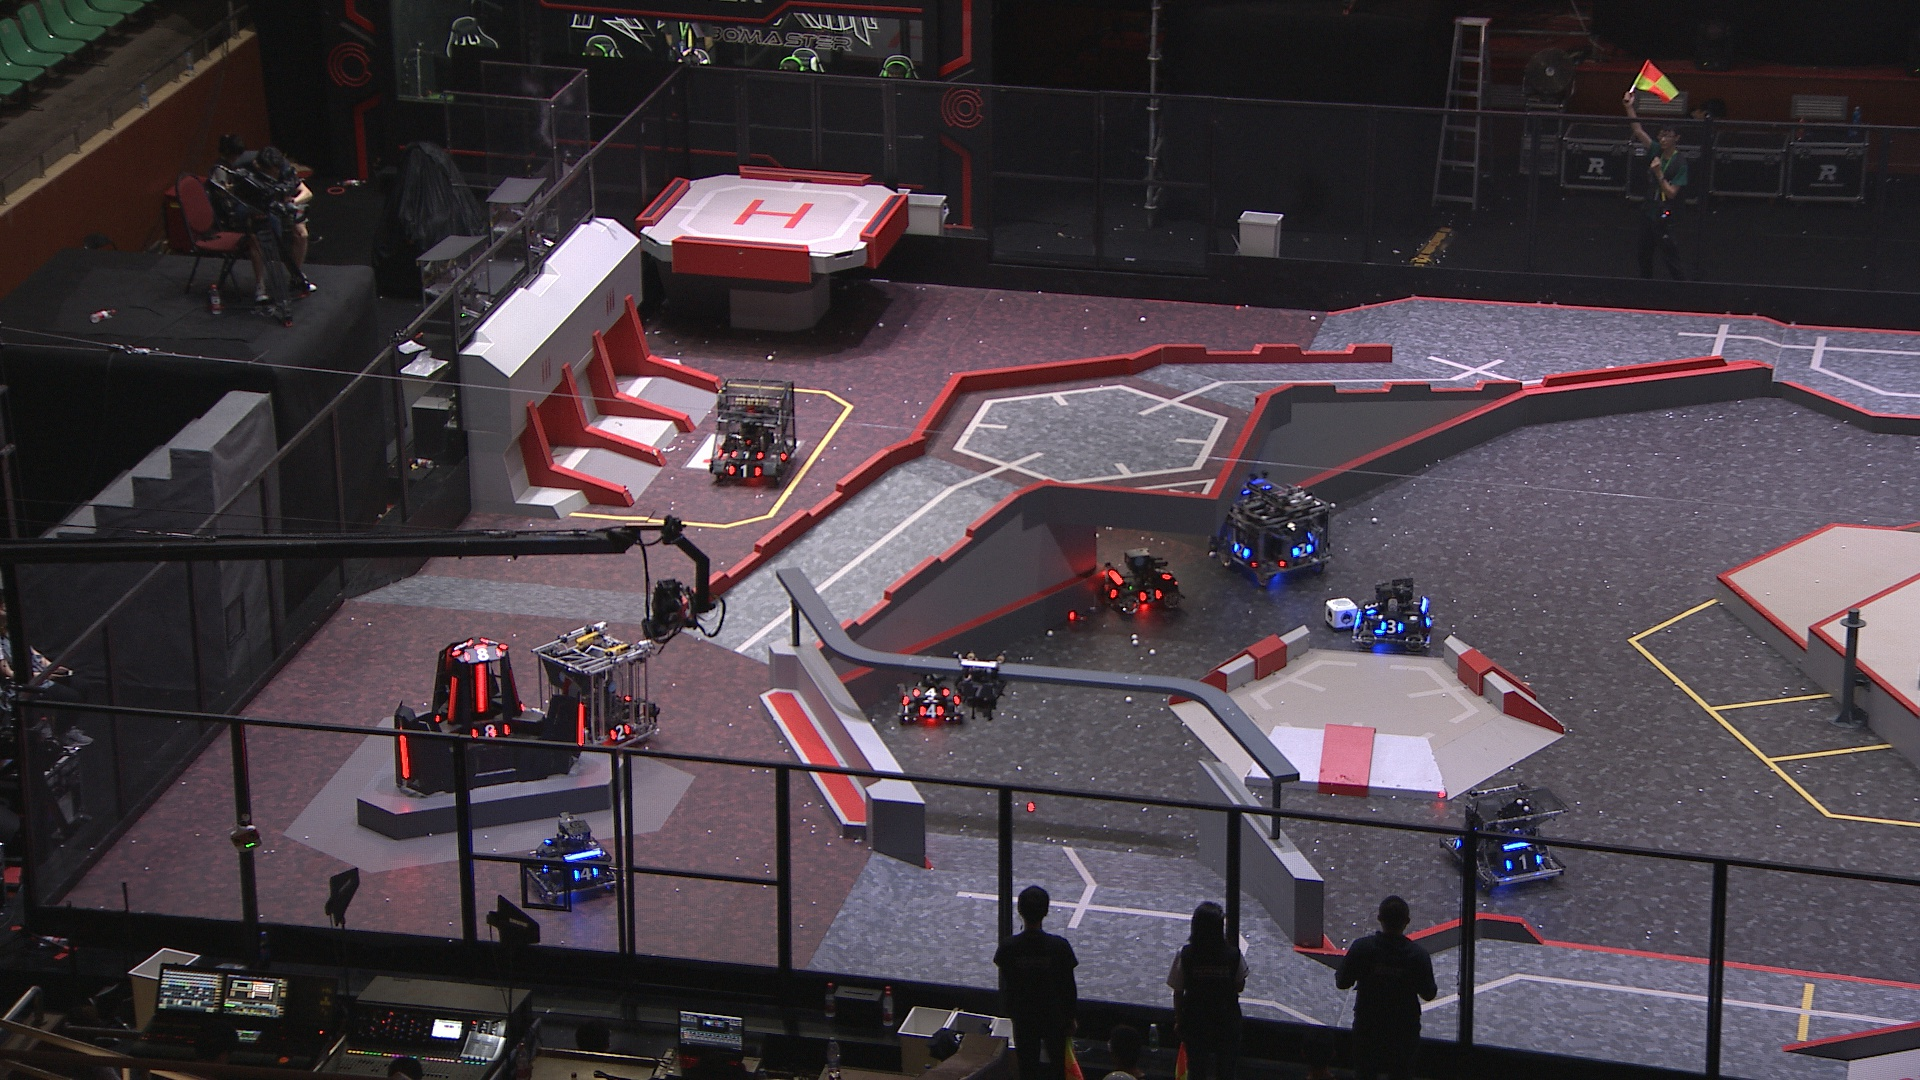armor: (465, 723, 510, 744), (1503, 855, 1544, 874), (724, 462, 767, 480), (473, 665, 489, 712), (444, 678, 460, 721), (571, 864, 603, 884), (462, 646, 504, 661), (913, 703, 945, 721), (1133, 585, 1163, 604), (727, 447, 765, 462), (398, 732, 410, 778), (1377, 618, 1408, 636), (607, 727, 633, 746), (963, 683, 994, 699), (1290, 541, 1313, 559), (913, 687, 951, 698), (1100, 583, 1120, 603), (578, 702, 585, 749), (1232, 542, 1250, 559), (1153, 568, 1174, 582), (452, 641, 471, 655), (1365, 599, 1378, 617), (781, 444, 793, 460)
base: (386, 633, 591, 799)
car: (531, 622, 665, 754), (1205, 473, 1333, 588), (1441, 783, 1572, 893), (705, 376, 799, 491), (520, 816, 618, 902), (1348, 579, 1437, 654), (1095, 546, 1188, 616), (898, 662, 971, 731)
watcher: (955, 651, 1006, 717)
